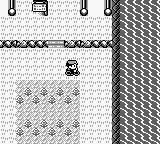captura: (120, 0, 159, 143)
leer: (33, 0, 48, 15)
main: (65, 60, 79, 76)
mo: (112, 0, 120, 143)
salto: (65, 40, 112, 47), (0, 40, 46, 47)
